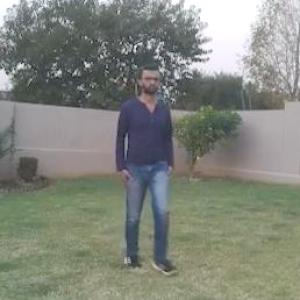follow: (121, 66, 176, 251)
